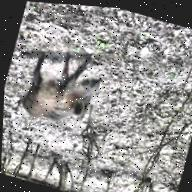boar: (6, 32, 109, 145)
